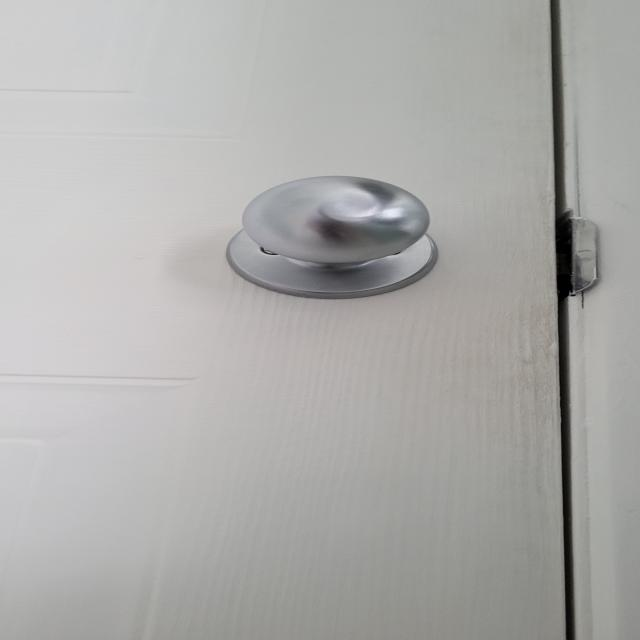door-knob: (227, 176, 438, 299)
